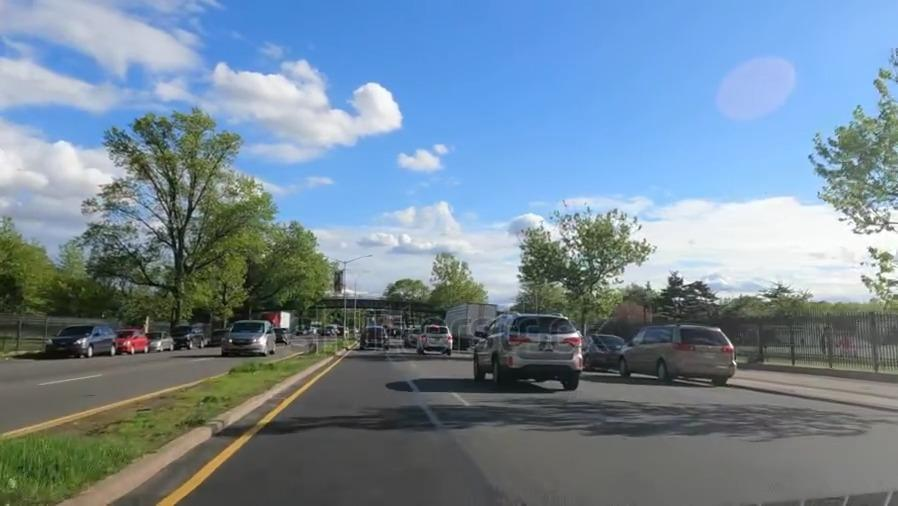car: (484, 315, 583, 383), (628, 325, 742, 379), (220, 319, 275, 355), (51, 326, 118, 354), (585, 331, 627, 367), (170, 327, 206, 350), (422, 325, 452, 352), (117, 328, 144, 355), (360, 327, 390, 347), (145, 333, 171, 351)
